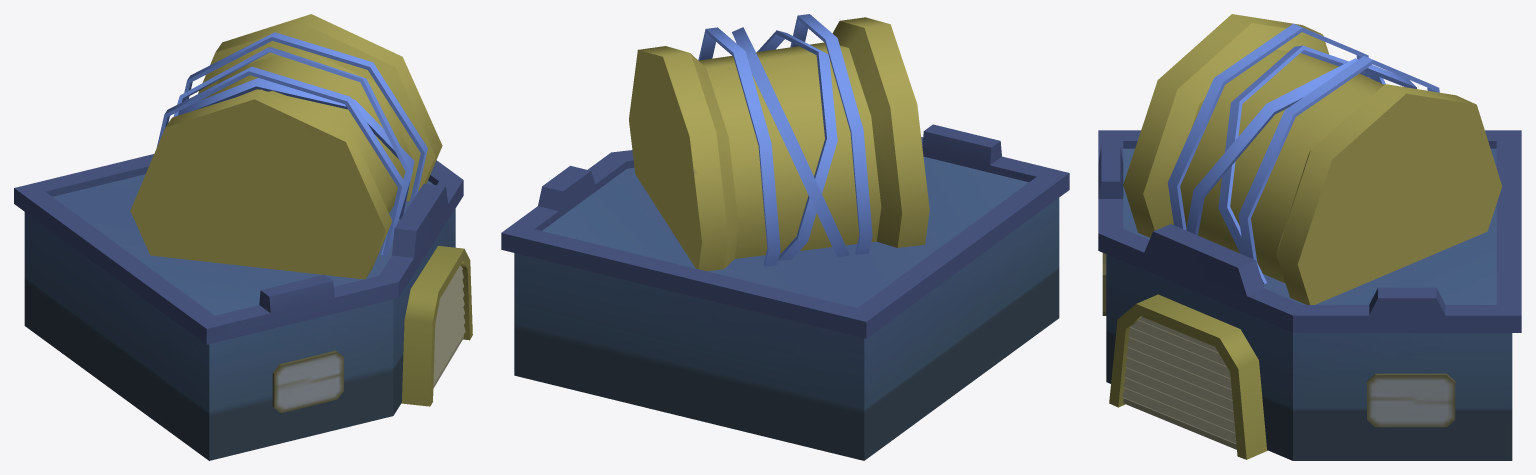
File: West_House_07.fbx
3 views of the same model, side by side, from view 1: azimuth 30°, elevation 25°; view 2: azimuth 150°, elevation 25°; view 3: azimuth 270°, elevation 25° (orthographic). The views are drawn at different scales.
Visible parts, largest first — view 1: West_House_07; view 2: West_House_07; view 3: West_House_07.
Boxes of the visible parts, box(x1,y1,x2,y2) form: West_House_07: box(14, 14, 472, 460); West_House_07: box(501, 14, 1069, 460); West_House_07: box(1098, 14, 1521, 460).
Bounding box in the file's own units: 20.48 × 16.9 × 19.78.
2 materials, 2 textured.
